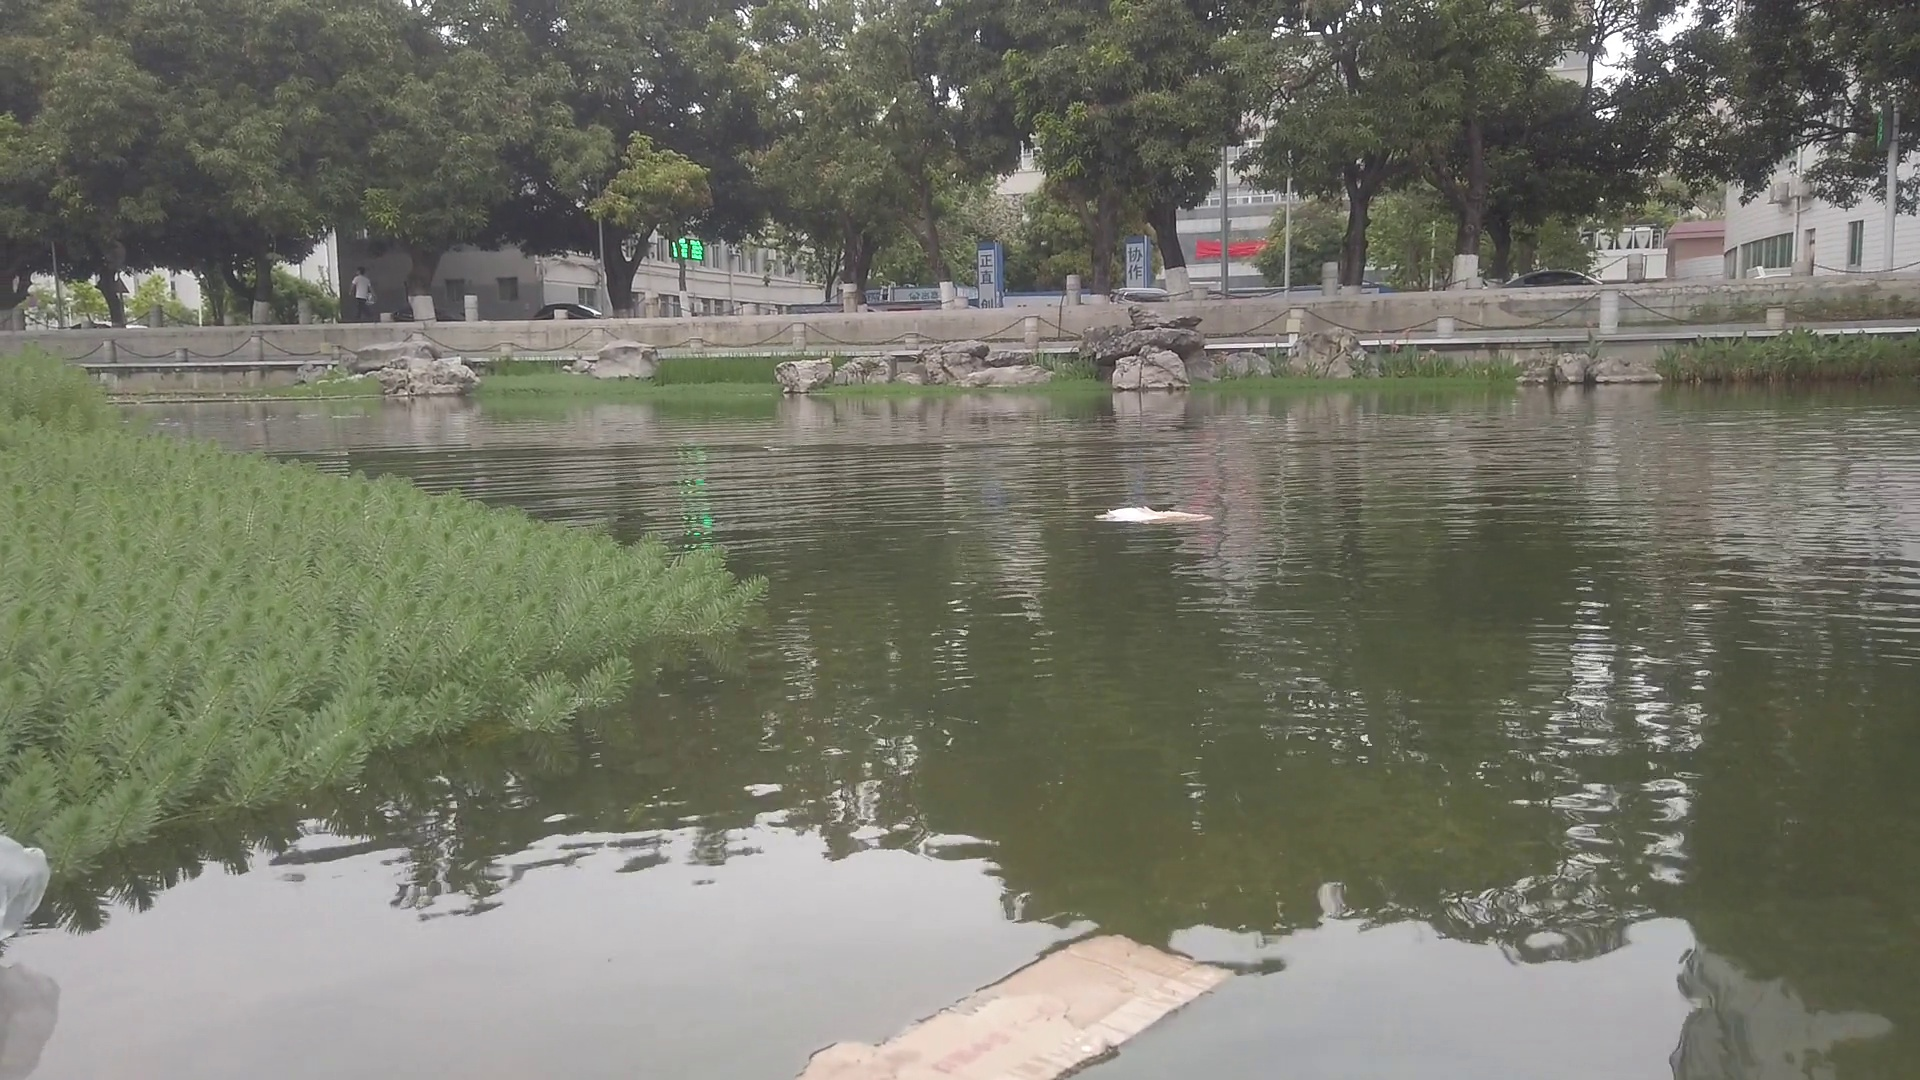paper: (827, 924, 1226, 1069), (1096, 504, 1200, 526)
